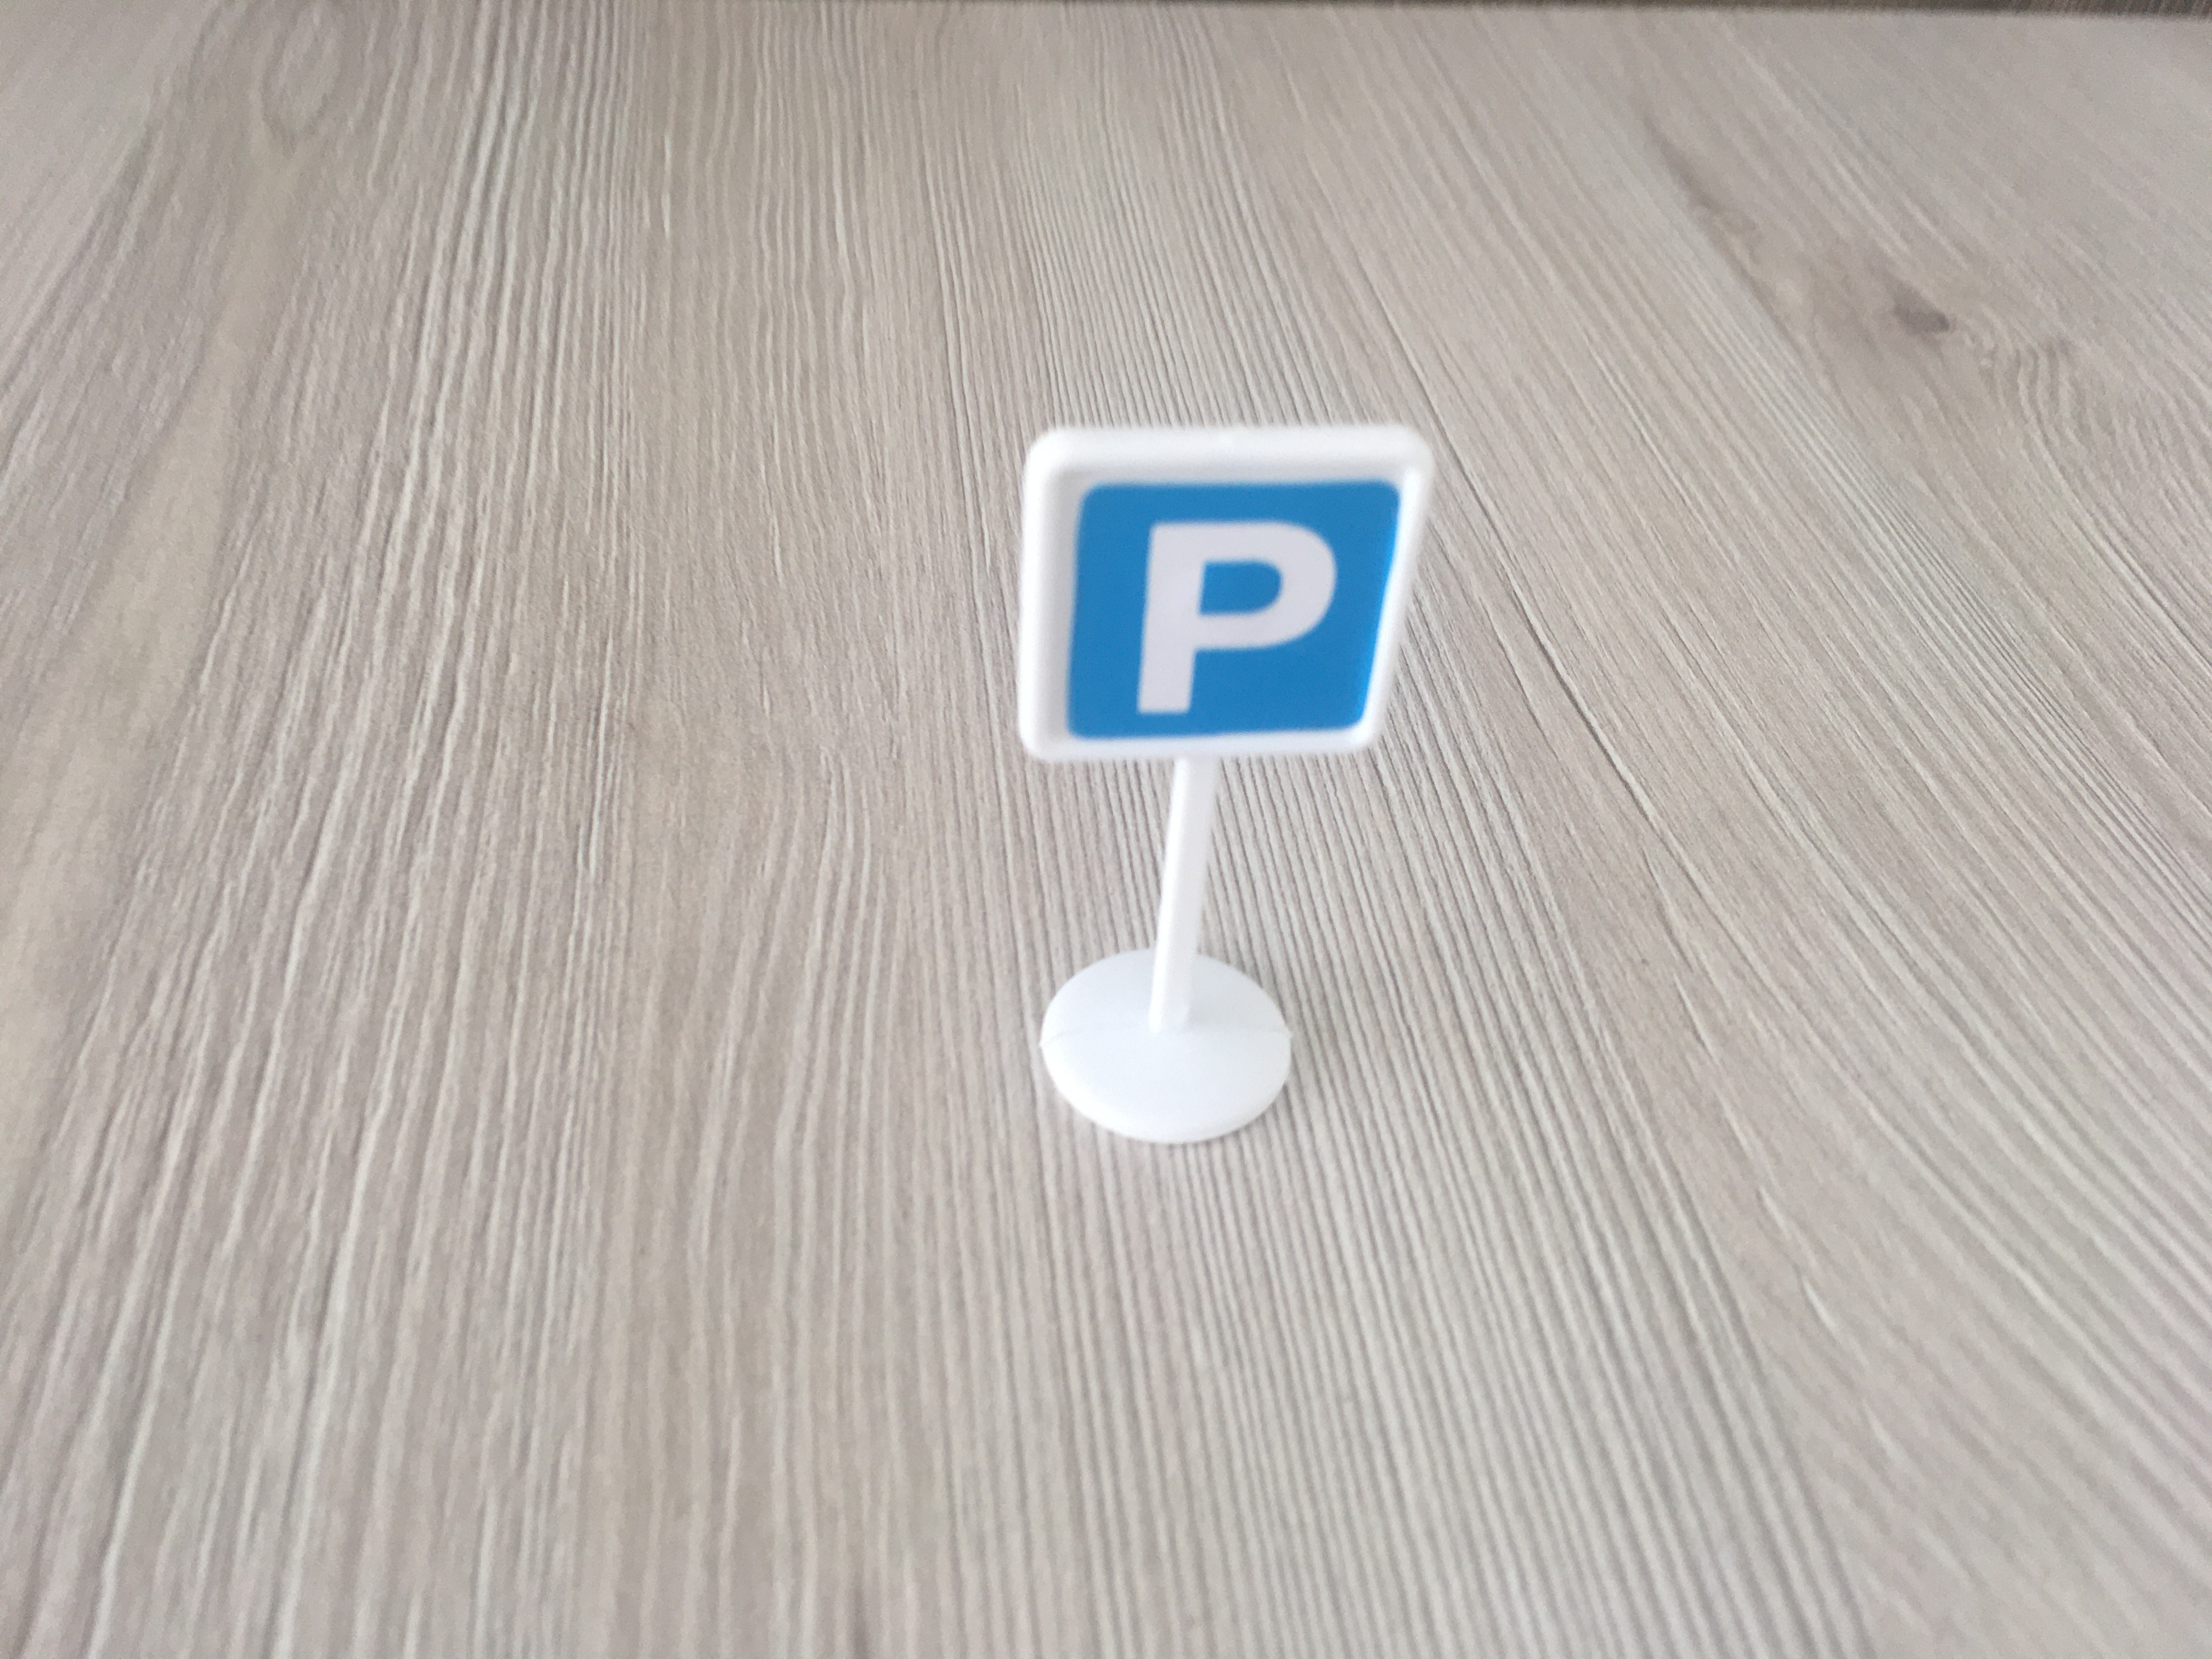parking: (1035, 439, 1400, 762)
